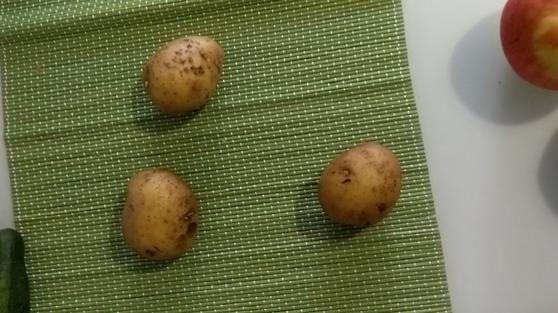apple: (495, 2, 558, 92)
potato: (120, 166, 199, 266), (321, 138, 403, 231), (145, 34, 227, 112)
